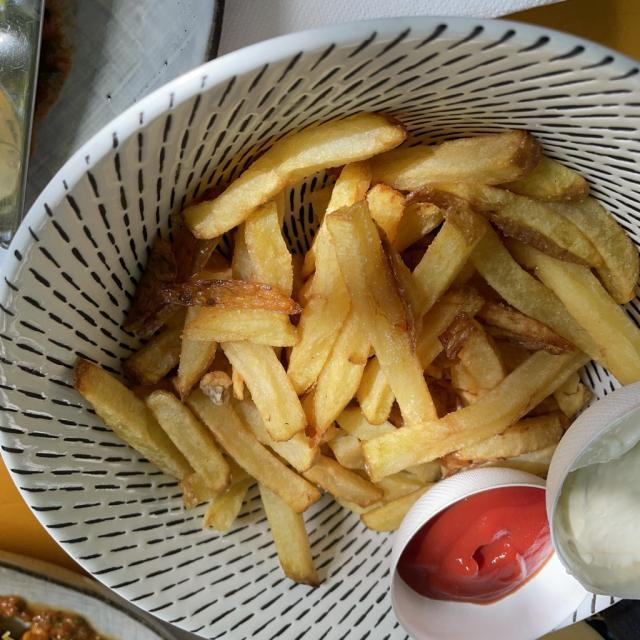French Fries: (78, 116, 624, 524)
Sauce: (387, 481, 565, 614)
